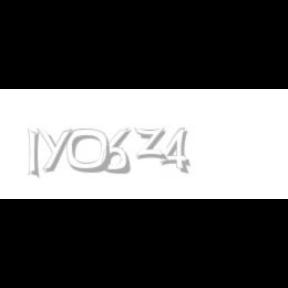4: (160, 128, 190, 174)
6: (102, 128, 130, 176)
O: (66, 128, 112, 174)
l: (27, 128, 43, 180)
y: (36, 128, 76, 172)
z: (134, 128, 170, 160)
